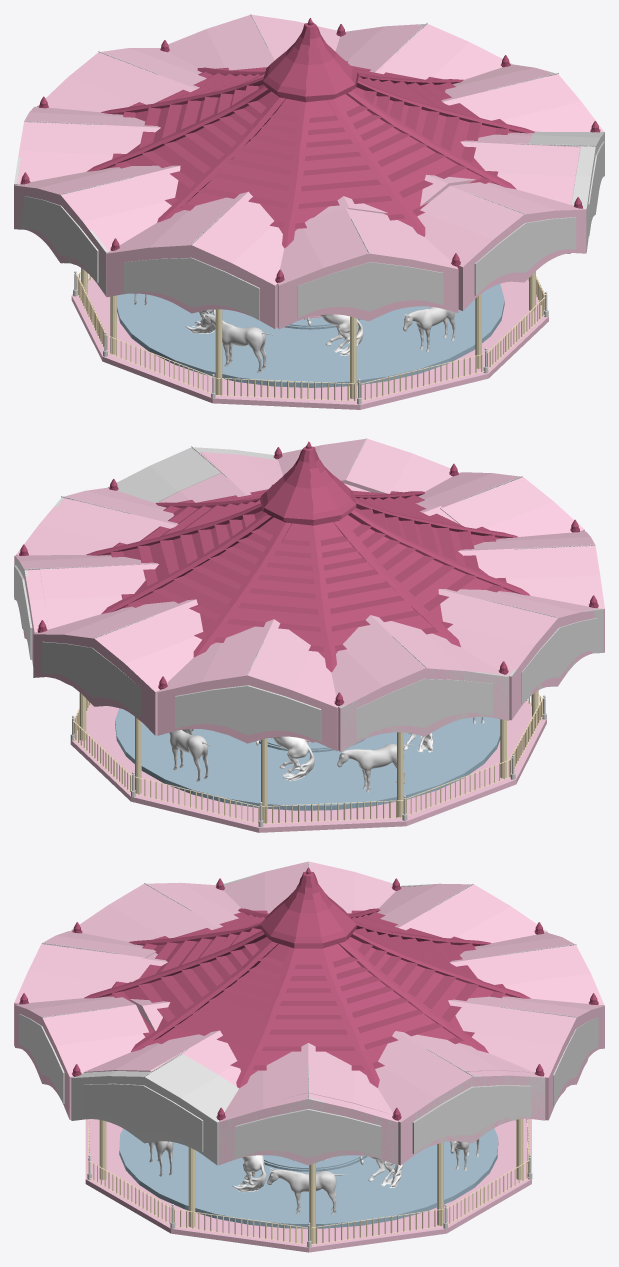
Rendered from Utopia.glb.
3 renders of one model, top to bottom at view 1: azimuth 30°, elevation 25°; view 2: azimuth 150°, elevation 25°; view 3: azimuth 270°, elevation 25°, orthographic. The views are drawn at different scales.
Visible parts, largest first — view 1: 뚜껑, Cube.017, 바닥, Cube.027, Cube.019, 밑바닥, Cube.028, Cube.035, Cube.034, Cube.033, Plane.003, Cube.003 (+11 smaller); view 2: 뚜껑, Cube.017, 바닥, Cube.019, 밑바닥, Cube.027, Cube.028, Cube.029, Cube.035, Cube.031, Plane.003, Cube.013 (+11 smaller); view 3: 뚜껑, Cube.017, 바닥, 밑바닥, Cube.019, Cube.027, Cube.003, Cube.035, Cube.037, Cube.028, Cube, Cube.001 (+12 smaller).
Boxes of the visible parts, left/top/right/bottom form: 뚜껑: left=86, top=18, right=534, bottom=248; Cube.017: left=17, top=14, right=580, bottom=253; 바닥: left=117, top=284, right=504, bottom=387; Cube.027: left=106, top=29, right=427, bottom=328; Cube.019: left=14, top=67, right=561, bottom=296; 밑바닥: left=71, top=277, right=548, bottom=409; Cube.028: left=277, top=207, right=458, bottom=329; Cube.035: left=417, top=182, right=586, bottom=310; Cube.034: left=297, top=262, right=443, bottom=317; Cube.033: left=123, top=257, right=259, bottom=320; Plane.003: left=76, top=272, right=545, bottom=401; Cube.003: left=340, top=24, right=510, bottom=79; 뚜껑: left=86, top=441, right=529, bottom=672; Cube.017: left=33, top=452, right=508, bottom=751; 바닥: left=115, top=708, right=500, bottom=810; Cube.019: left=31, top=495, right=598, bottom=720; 밑바닥: left=70, top=700, right=546, bottom=832; Cube.027: left=39, top=531, right=604, bottom=652; Cube.028: left=417, top=472, right=584, bottom=536; Cube.029: left=175, top=685, right=321, bottom=741; Cube.035: left=277, top=438, right=452, bottom=493; Cube.031: left=356, top=678, right=492, bottom=740; Plane.003: left=73, top=694, right=543, bottom=823; Cube.013: left=41, top=641, right=141, bottom=717; 뚜껑: left=84, top=867, right=530, bottom=1088; Cube.017: left=84, top=883, right=604, bottom=1120; 바닥: left=119, top=1128, right=498, bottom=1228; 밑바닥: left=85, top=1118, right=531, bottom=1252; Cube.019: left=223, top=861, right=395, bottom=1114; Cube.027: left=71, top=882, right=533, bottom=1074; Cube.003: left=375, top=1032, right=545, bottom=1165; Cube.035: left=15, top=996, right=148, bottom=1119; Cube.037: left=71, top=1054, right=238, bottom=1165; Cube.028: left=14, top=931, right=155, bottom=1046; Cube: left=218, top=1060, right=398, bottom=1165; Cube.001: left=235, top=1109, right=381, bottom=1157.
Bounding box in the file's own units: 21.93 × 12.66 × 22.9.
